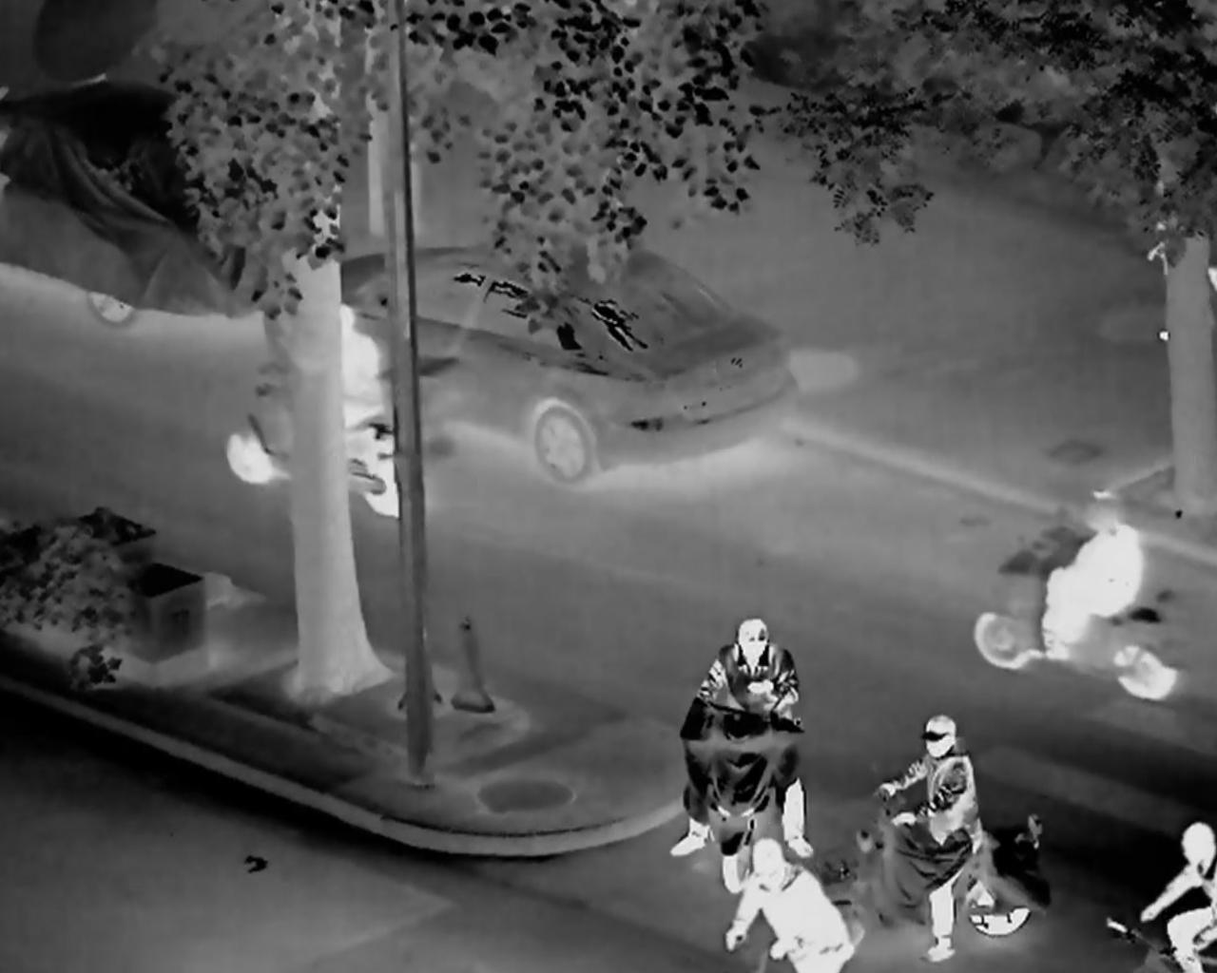person: (661, 595, 817, 883), (875, 700, 1021, 965), (1033, 478, 1146, 674), (287, 292, 384, 472), (729, 834, 866, 959), (1123, 819, 1217, 973)
